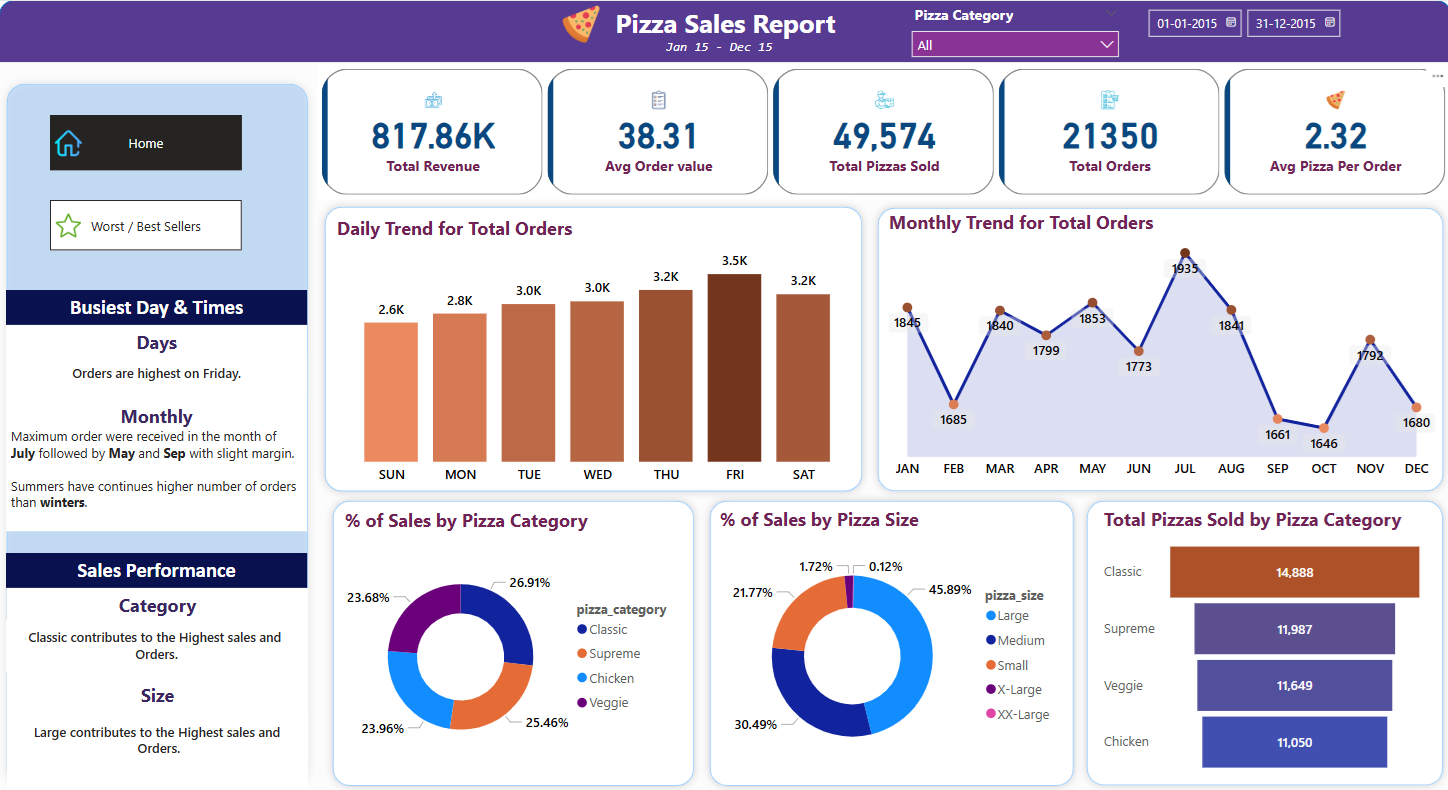

What the dashboard file says about the page in this screenshot:
{"tool":"powerbi","page":{"name":"Home","canvas":[1500,820],"ordinal":0},"visuals":[{"type":"shape","box":[0,78.5,327.4,741.5],"z":0},{"type":"cardVisual","fields":{"Data":["pizzasales.Total Revenue","pizzasales.Avg Order value","pizzasales.Total Pizzas Sold","pizzasales.Total Orders","pizzasales.Avg Pizza Per Order"]},"box":[328.4,66.1,1171.1,140.5],"z":1000},{"type":"shape","box":[0,0,1500,65],"z":2000},{"type":"textbox","box":[612.1,0,275.8,50.2],"z":3000},{"type":"textbox","box":[683.9,34.2,131.1,31.9],"z":4000},{"type":"image","box":[573.3,0,57,50.2],"z":5000},{"type":"shape","box":[328.3,205.7,571,310],"z":6000},{"type":"clusteredColumnChart","title":"Daily Trend for Total Orders","fields":{"Category":["pizzasales.Order Day"],"Y":["pizzasales.Total Orders"]},"box":[344.1,222.8,549.4,285],"z":7000},{"type":"shape","box":[899.5,206.5,600,308.8],"z":8000},{"type":"stackedAreaChart","title":"Monthly Trend for Total Orders","fields":{"Category":["pizzasales.Order Month"],"Y":["pizzasales.Total Orders"]},"box":[914,216.9,574.2,285],"z":9000},{"type":"shape","box":[336.7,509.1,389.3,310.9],"z":10000},{"type":"shape","box":[726,509.1,392.4,310.9],"z":11000},{"type":"shape","box":[1115.9,509.5,384.1,310],"z":12000},{"type":"donutChart","title":"% of Sales by Pizza Category","fields":{"Category":["pizzasales.pizza_category"],"Y":["pizzasales.Total Revenue"]},"box":[352.2,524.6,358.4,283],"z":13000},{"type":"donutChart","title":"% of Sales by Pizza Size","fields":{"Y":["pizzasales.Total Revenue"],"Category":["pizzasales.pizza_size"]},"box":[739.4,523.6,363.5,283],"z":14000},{"type":"funnel","title":"Total Pizzas Sold by Pizza Category","fields":{"Category":["pizzasales.pizza_category"],"Y":["pizzasales.Total Pizzas Sold"]},"box":[1136.4,523.2,340.8,283.8],"z":15000},{"type":"textbox","box":[7.2,299.5,310.9,36.1],"z":16000},{"type":"textbox","box":[7.2,335.6,310.9,212.7],"z":17000},{"type":"textbox","box":[7.2,571.1,310.9,36.1],"z":18000},{"type":"textbox","box":[8.3,607.3,310.9,212.7],"z":19000},{"type":"slicer","fields":{"Values":["pizzasales.pizza_category"]},"box":[932.6,0,234.4,65.1],"z":20000},{"type":"slicer","fields":{"Values":["pizzasales.order_date"]},"box":[1174.2,0,230.3,66.1],"z":21000},{"type":"pageNavigator","box":[52.7,206.5,198.3,52.7],"z":22000},{"type":"pageNavigator","box":[52.7,118.8,198.3,57.8],"z":23000},{"type":"image","box":[52.7,122.9,38.2,49.6],"z":24000},{"type":"image","box":[52.7,214.8,38.2,36.1],"z":25000},{"type":"card","fields":{"Values":["pizzasales.Top Selling Pizza by Category"]},"box":[7.2,640.3,310.9,53.7],"z":25001},{"type":"card","fields":{"Values":["pizzasales.Top Selling Pizza by Size"]},"box":[11.4,732.2,307.8,65.1],"z":25002},{"type":"card","fields":{"Values":["pizzasales.Top Selling Day Name"]},"box":[7.2,365.6,310.9,53.7],"z":25003}]}

Visuals, with their boxes in screenshot pixels (x1, y1, x2, y2), scaled from the page's 1500x820 canvas onto the 1448x790 screenshot:
shape: l=0, t=76, r=316, b=789
cardVisual - pizzasales.Total Revenue x pizzasales.Avg Order value: l=317, t=64, r=1447, b=199
shape: l=0, t=0, r=1447, b=63
textbox: l=591, t=0, r=857, b=48
textbox: l=660, t=33, r=787, b=64
image: l=553, t=0, r=608, b=48
shape: l=317, t=198, r=868, b=497
"Daily Trend for Total Orders" clusteredColumnChart: l=332, t=215, r=863, b=489
shape: l=868, t=199, r=1447, b=496
"Monthly Trend for Total Orders" stackedAreaChart: l=882, t=209, r=1437, b=484
shape: l=325, t=490, r=701, b=789
shape: l=701, t=490, r=1080, b=789
shape: l=1077, t=491, r=1447, b=789
"% of Sales by Pizza Category" donutChart: l=340, t=505, r=686, b=778
"% of Sales by Pizza Size" donutChart: l=714, t=504, r=1065, b=777
"Total Pizzas Sold by Pizza Category" funnel: l=1097, t=504, r=1426, b=777
textbox: l=7, t=289, r=307, b=323
textbox: l=7, t=323, r=307, b=528
textbox: l=7, t=550, r=307, b=585
textbox: l=8, t=585, r=308, b=789
slicer - pizzasales.pizza_category: l=900, t=0, r=1127, b=63
slicer - pizzasales.order_date: l=1133, t=0, r=1356, b=64
pageNavigator: l=51, t=199, r=242, b=250
pageNavigator: l=51, t=114, r=242, b=170
image: l=51, t=118, r=88, b=166
image: l=51, t=207, r=88, b=242
card - pizzasales.Top Selling Pizza by Category: l=7, t=617, r=307, b=669
card - pizzasales.Top Selling Pizza by Size: l=11, t=705, r=308, b=768
card - pizzasales.Top Selling Day Name: l=7, t=352, r=307, b=404
